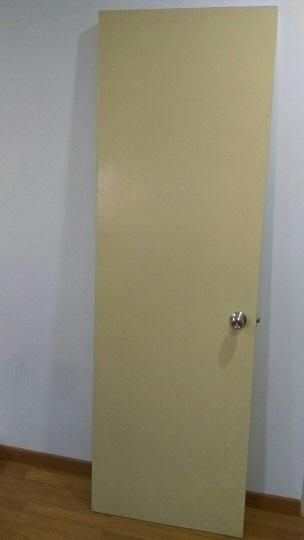door: (84, 0, 265, 540)
